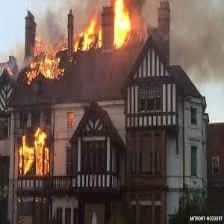fire: (18, 4, 132, 82), (14, 130, 54, 182)
